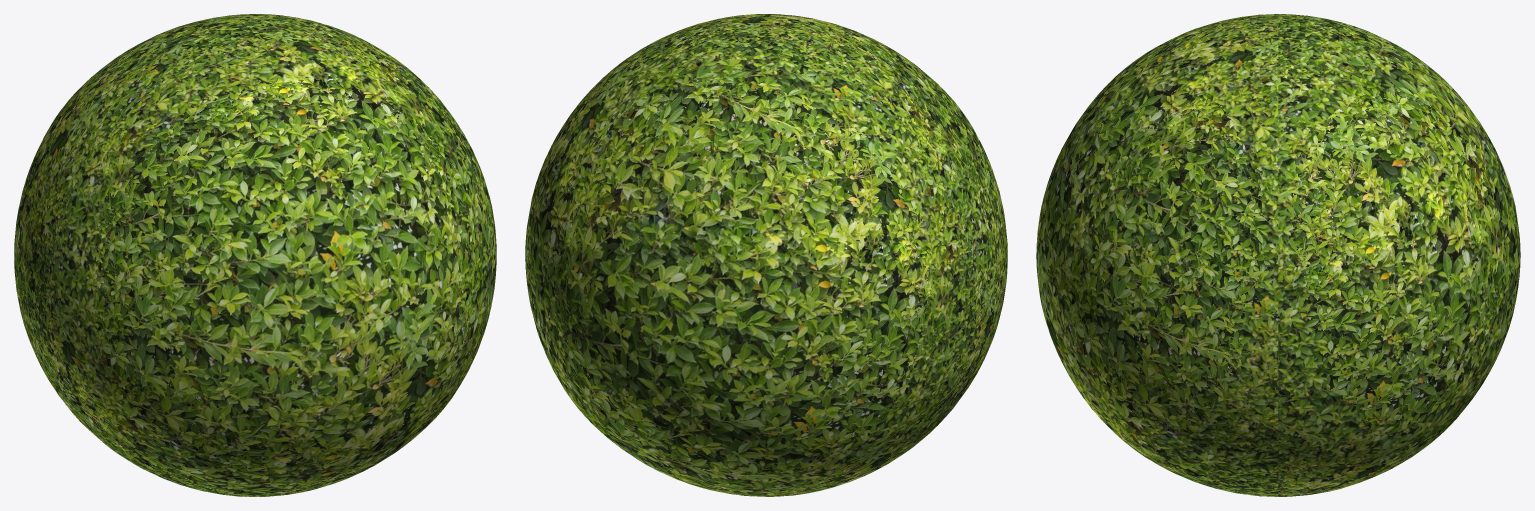
File: bush.glb
3 views of the same model, side by side, from view 1: azimuth 30°, elevation 25°; view 2: azimuth 150°, elevation 25°; view 3: azimuth 270°, elevation 25° (orthographic).
Parts seen in each view (by area): view 1: Object_2; view 2: Object_2; view 3: Object_2.
Boxes of the visible parts, <box> form: Object_2: <box>14,14,496,496</box>; Object_2: <box>525,14,1007,496</box>; Object_2: <box>1036,14,1520,496</box>.
Size of the model in its own units: 1.92 by 1.91 by 1.92.
1 material, 1 textured.
